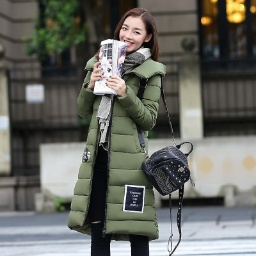face: (110, 6, 164, 65)
